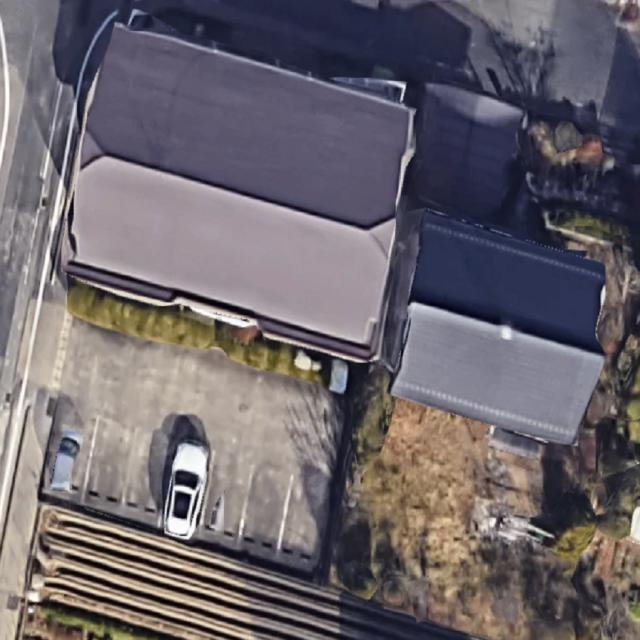Batiment: (66, 25, 412, 360), (392, 211, 605, 443)
